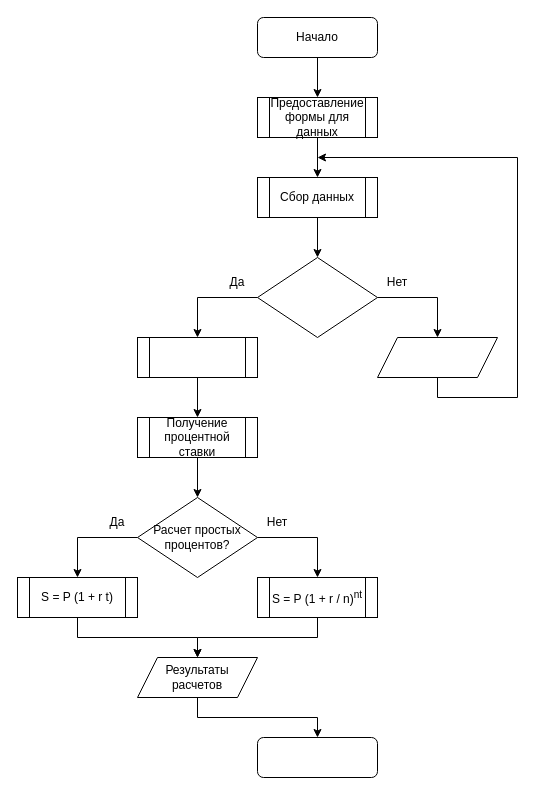
This 543x795 diagram has some shape labels left out. The shapes that lost their labels are listed below. From the top down, each one's centre as x and y in pixels, then its label:
At [317,297]: "Данные корректны?".
At [197,357]: "Пересылка данных на сервер".
At [437,357]: "Сообщение об ошибке".
At [317,757]: "Конец".
